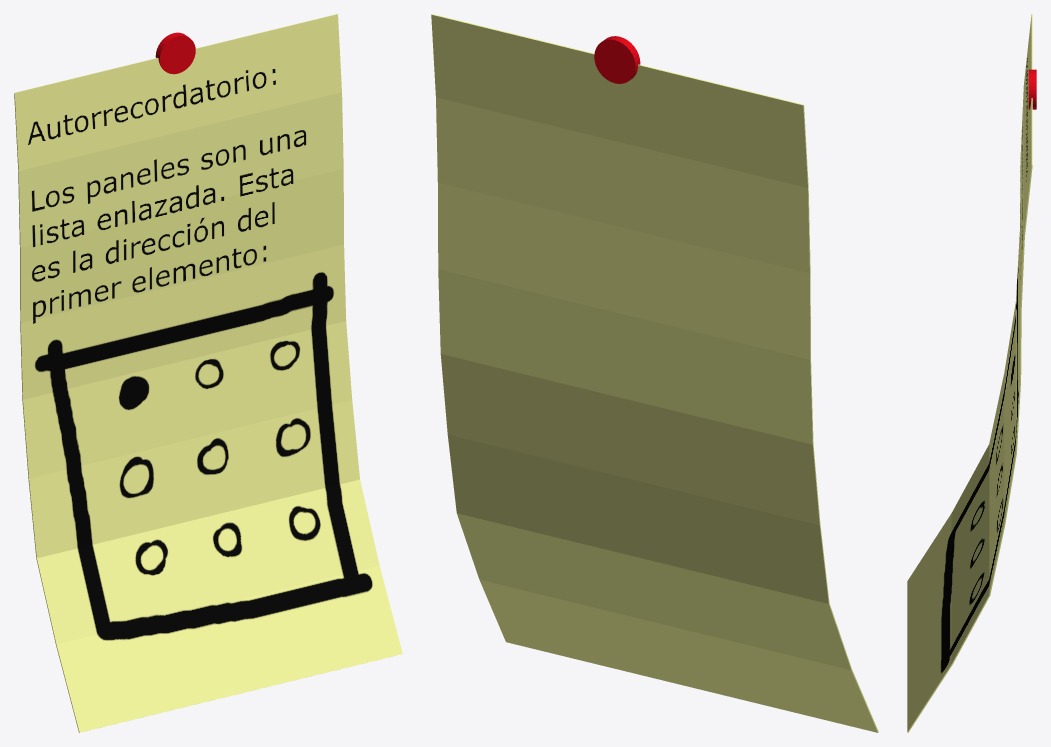
The model's file is Nota.fbx.
3 renders of one model, left to right at view 1: azimuth 30°, elevation 25°; view 2: azimuth 150°, elevation 25°; view 3: azimuth 270°, elevation 25°, orthographic. The views are drawn at different scales.
Parts seen in each view (by area): view 1: Cylinder; view 2: Cylinder; view 3: Cylinder.
Part boxes in pixels (box(x1,y1,x2,y2)): Cylinder: box(14, 14, 402, 732); Cylinder: box(431, 14, 878, 732); Cylinder: box(907, 14, 1036, 732).
Bounding box in the file's own units: 9 × 16.27 × 3.26.
Materials: 2 (1 with a texture image).
